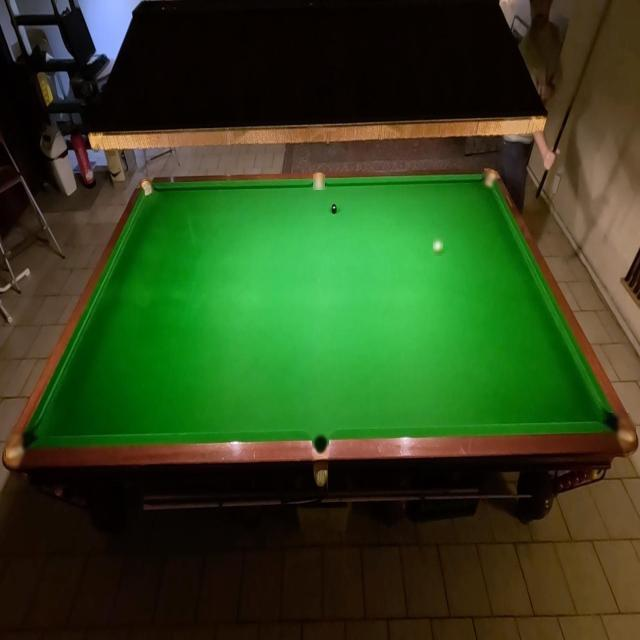Ball: (433, 238, 443, 256), (331, 202, 338, 216)
Pocket: (6, 427, 38, 469), (603, 414, 636, 452), (312, 434, 329, 456), (482, 171, 498, 190), (140, 182, 154, 198), (313, 174, 325, 190)
